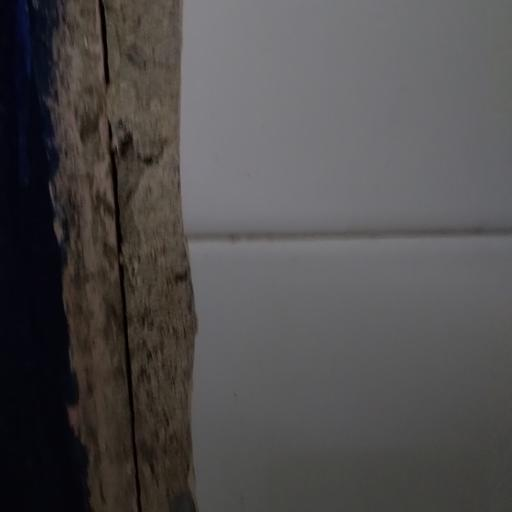spalling: (31, 0, 219, 512)
